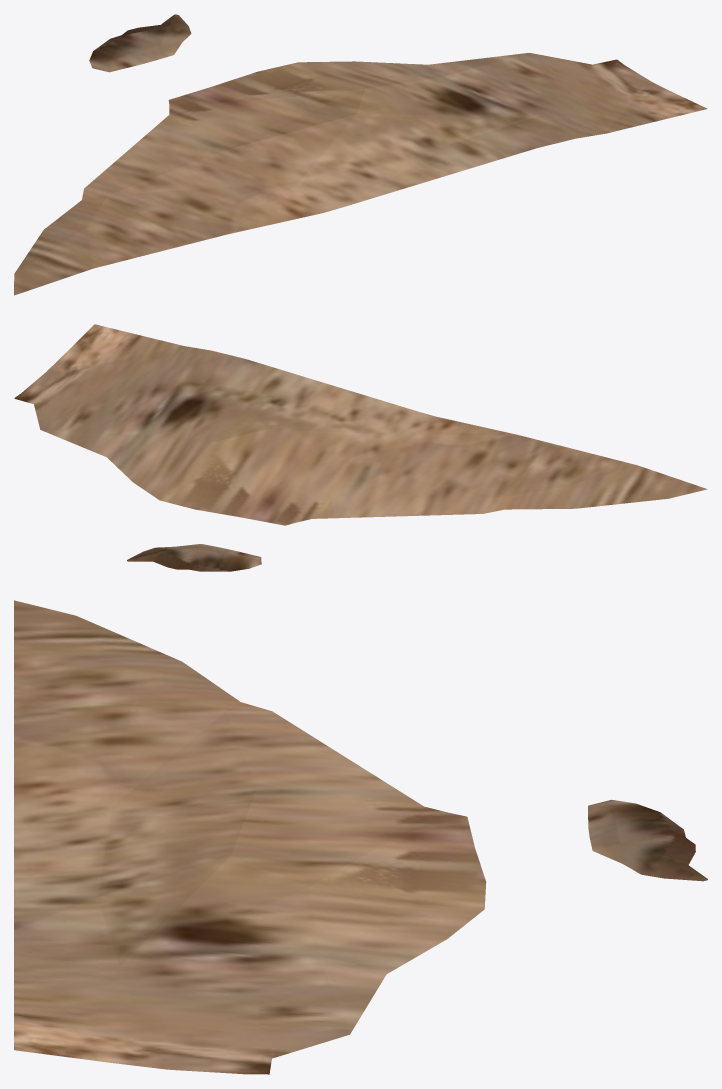
The picture shows the model from 3 angles, top to bottom: view 1: azimuth 30°, elevation 25°; view 2: azimuth 150°, elevation 25°; view 3: azimuth 270°, elevation 25°; orthographic projection. The views are drawn at different scales.
Bounding box in the file's own units: 1.11 × 0.0341 × 0.6848.
Materials: 1 (1 with a texture image).
